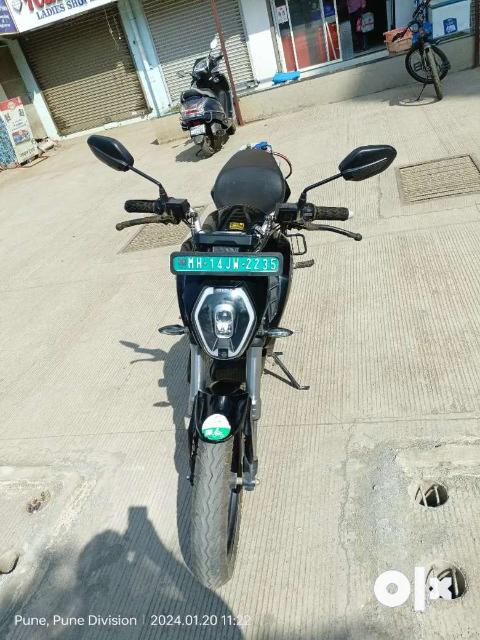Indian_Number_Plate: (173, 254, 281, 273)
